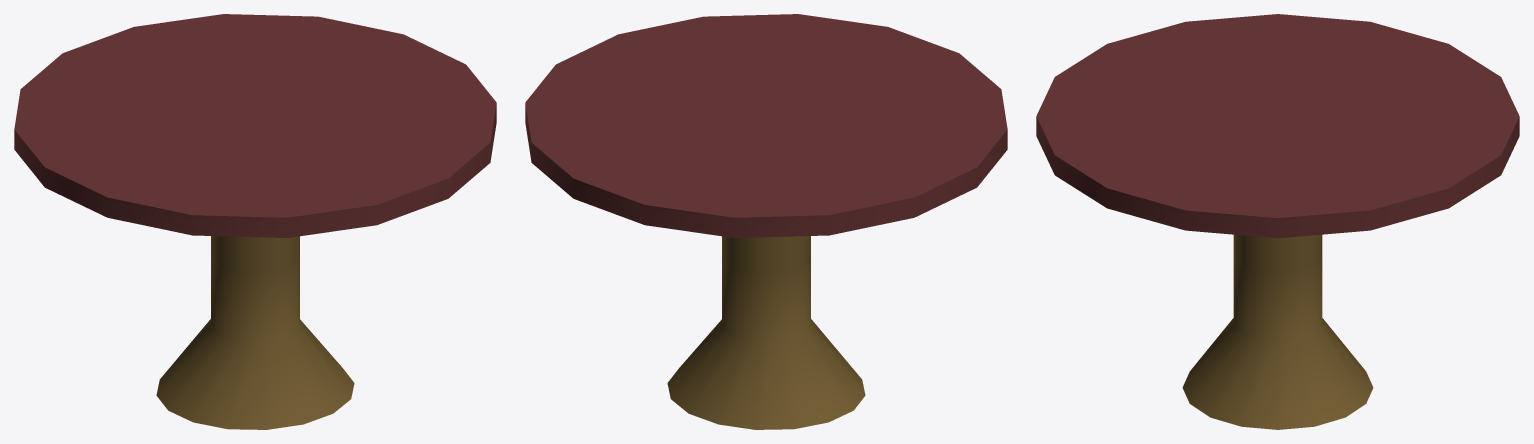
The model's file is one leg  Table.fbx.
3 renders of one model, left to right at view 1: azimuth 30°, elevation 25°; view 2: azimuth 150°, elevation 25°; view 3: azimuth 270°, elevation 25°, orthographic.
Parts seen in each view (by area): view 1: Cylinder, Cylinder_1; view 2: Cylinder, Cylinder_1; view 3: Cylinder, Cylinder_1.
Boxes of the visible parts, x1=… form: Cylinder: x1=14, y1=14, x2=496, y2=237; Cylinder_1: x1=156, y1=236, x2=354, y2=429; Cylinder: x1=525, y1=14, x2=1007, y2=237; Cylinder_1: x1=667, y1=236, x2=865, y2=429; Cylinder: x1=1036, y1=14, x2=1519, y2=238; Cylinder_1: x1=1182, y1=234, x2=1373, y2=429.
Size of the model in its own units: 353 by 219 by 353.
